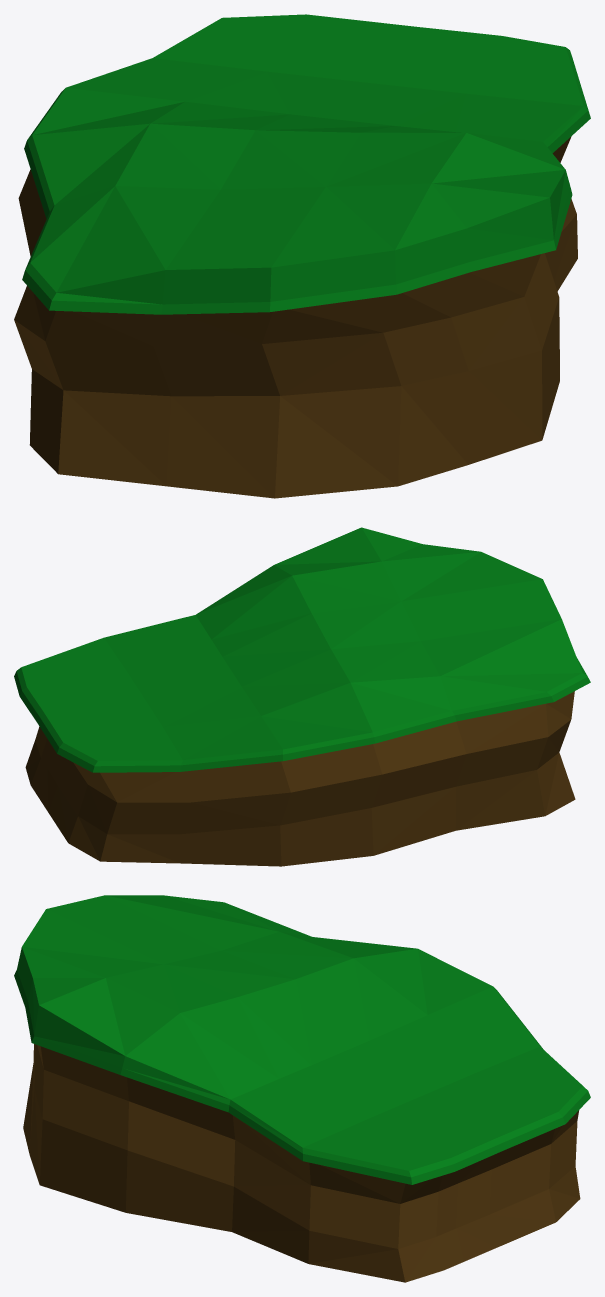
File: Grondstuk_1.fbx
3 renders of one model, top to bottom at view 1: azimuth 30°, elevation 25°; view 2: azimuth 150°, elevation 25°; view 3: azimuth 270°, elevation 25°, orthographic. The views are drawn at different scales.
Parts seen in each view (by area): view 1: Grondstuk_1; view 2: Grondstuk_1; view 3: Grondstuk_1.
Part boxes in pixels (bbox=[...]): Grondstuk_1: bbox=[14, 14, 590, 498]; Grondstuk_1: bbox=[14, 527, 590, 866]; Grondstuk_1: bbox=[14, 895, 590, 1282].
Size of the model in its own units: 24.21 by 8.1 by 23.18.
